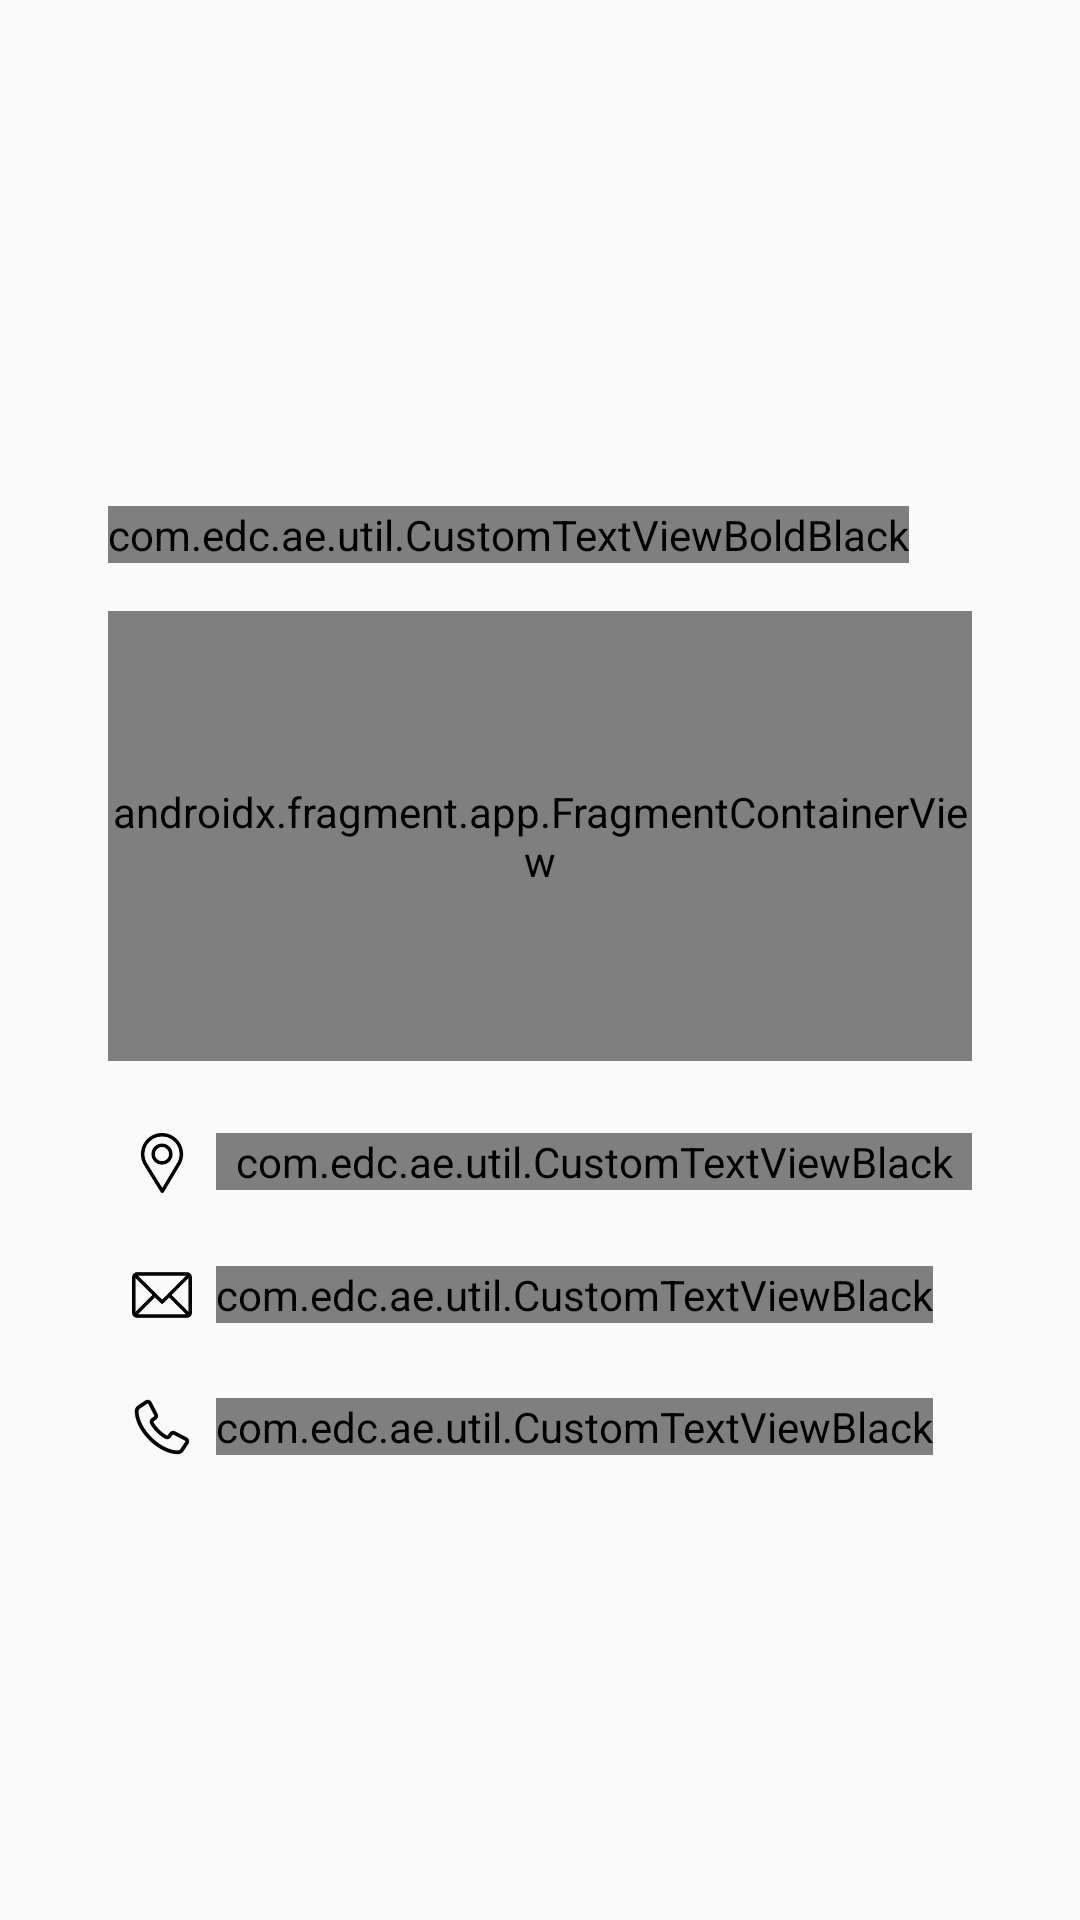

Icon click points for this 1080×1920 phone screenshot, format (x,y):
email: (162,1295)
location: (162,1163)
phone: (162,1427)
